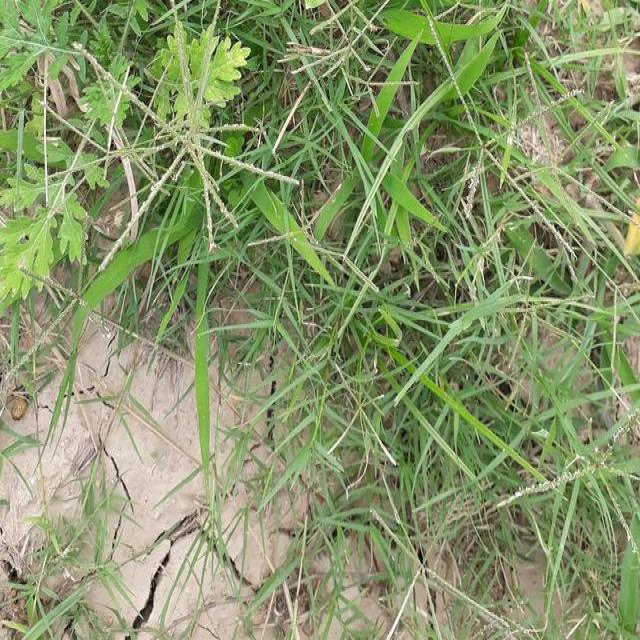weed: (263, 14, 640, 626)
